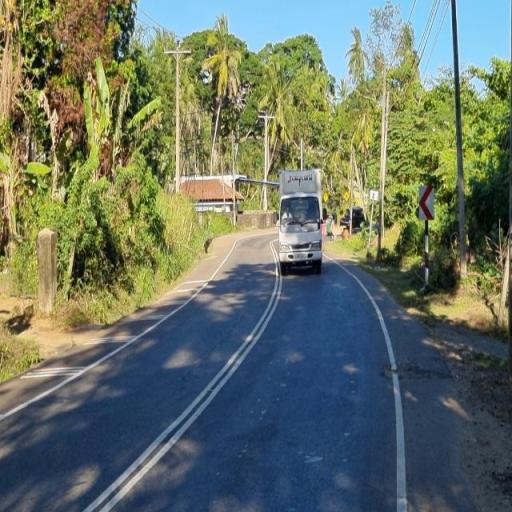double_white_line: (78, 236, 282, 512)
